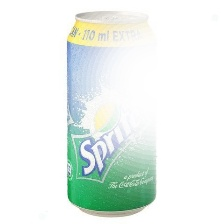can: (60, 8, 159, 220)
